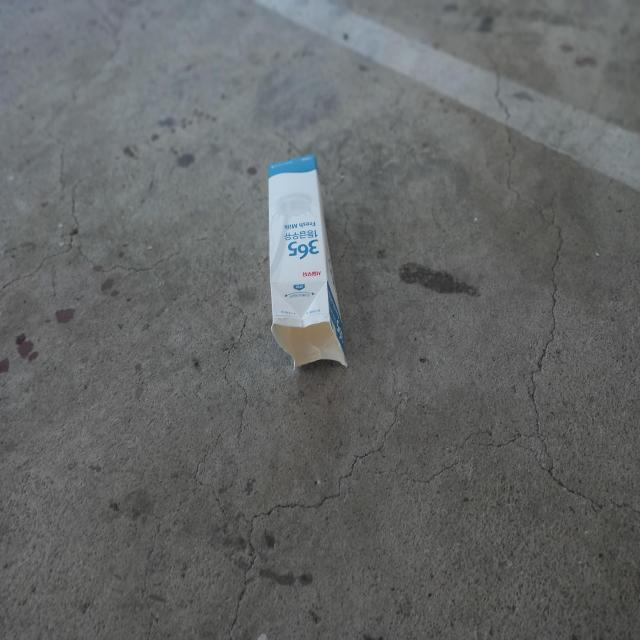paperpack: (268, 154, 347, 366)
